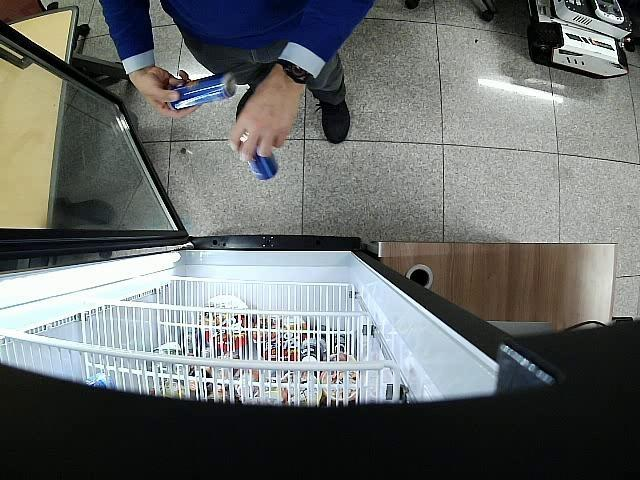16_hot6: (167, 72, 236, 110), (240, 129, 278, 180)
